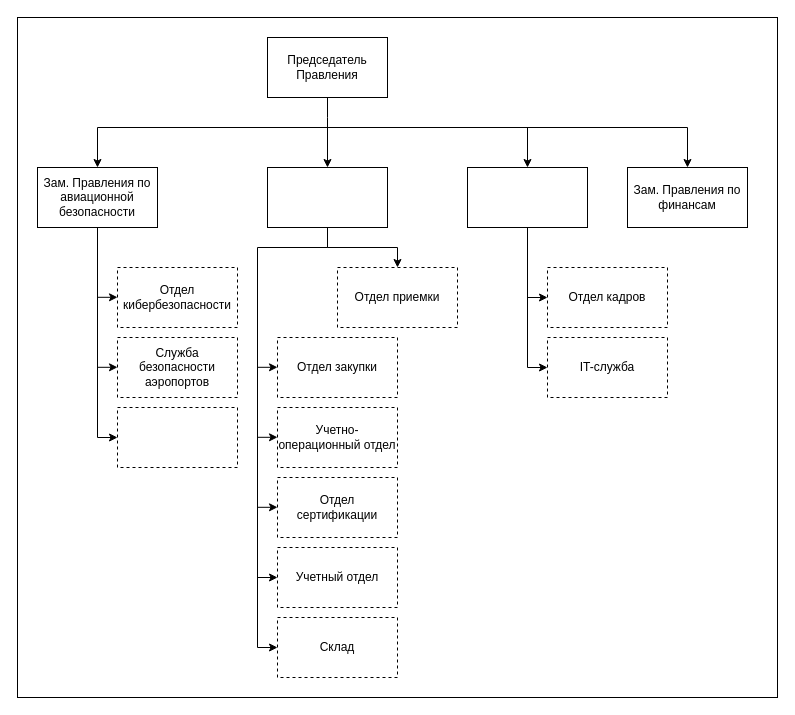
Some shapes in this 795 by 715 pixel diagram are drawn without their labels. The box of each missing label's shape, as (x1, y1, x2, y2) in pixels:
Зам. Правления по коммерции: (266, 166, 388, 228)
Зам. Председателя Правления: (466, 166, 588, 228)
Совет безопасности: (116, 406, 238, 468)
